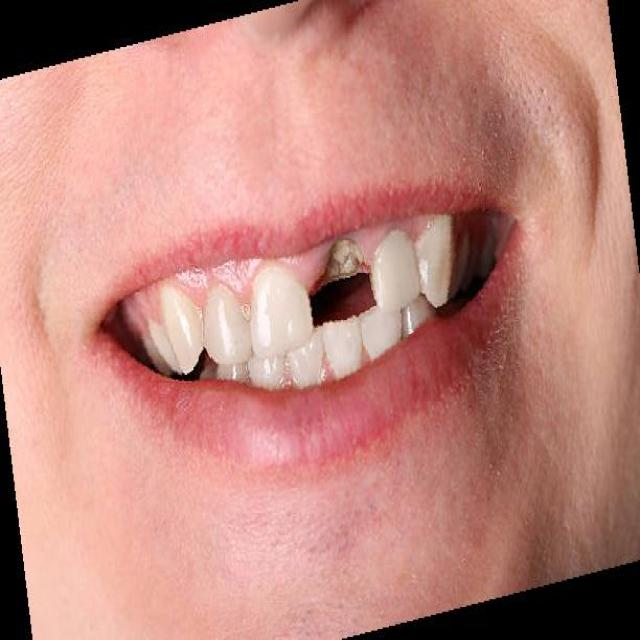caries: (310, 232, 372, 301)
